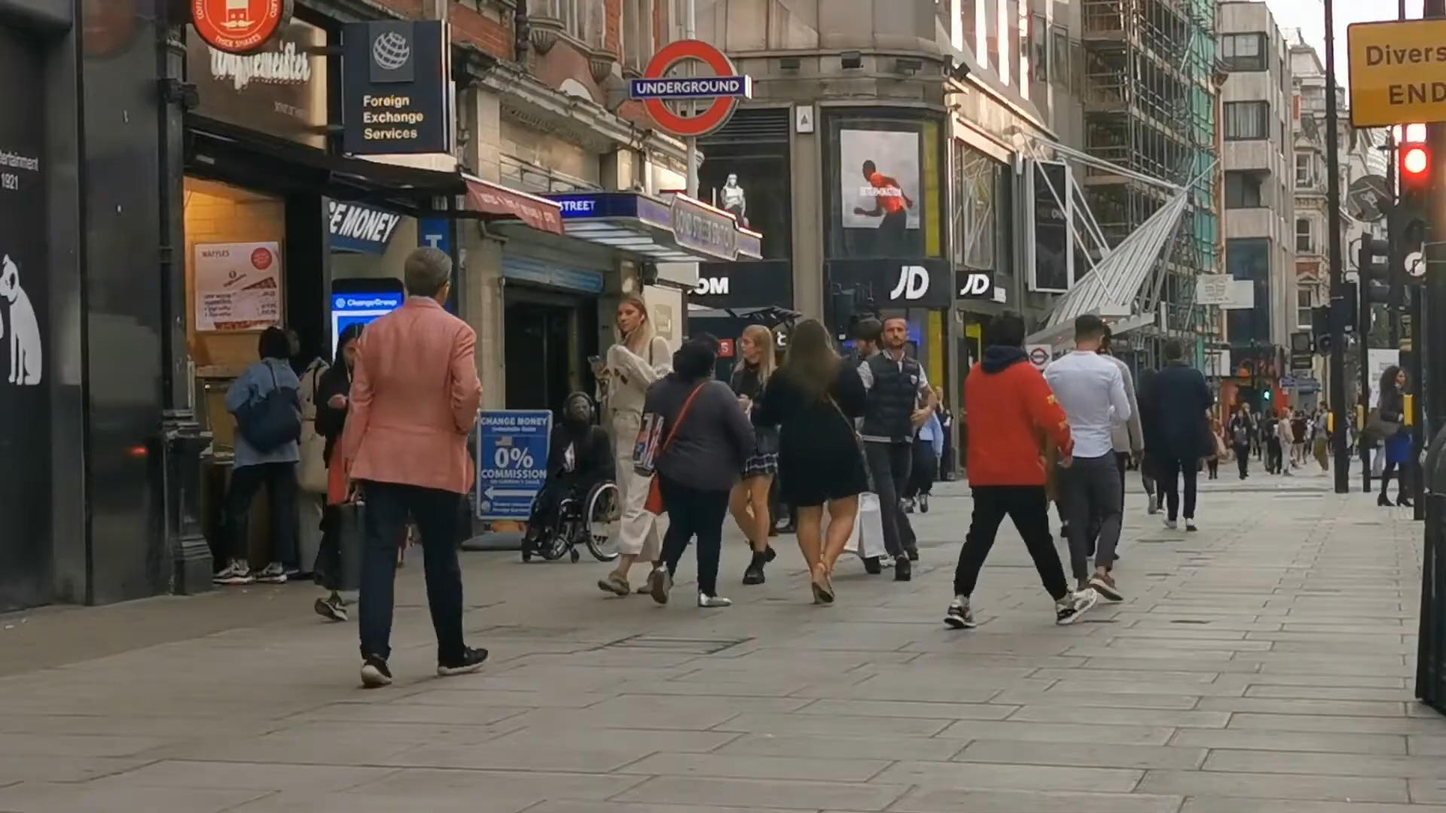no-helmet: (405, 246, 453, 306), (785, 319, 838, 364), (673, 342, 716, 383), (614, 291, 653, 336), (989, 309, 1027, 349), (741, 324, 775, 368), (334, 322, 365, 369), (851, 318, 883, 357), (258, 326, 292, 362), (1073, 314, 1105, 352), (563, 390, 595, 426), (880, 315, 909, 350), (1380, 364, 1405, 389)
